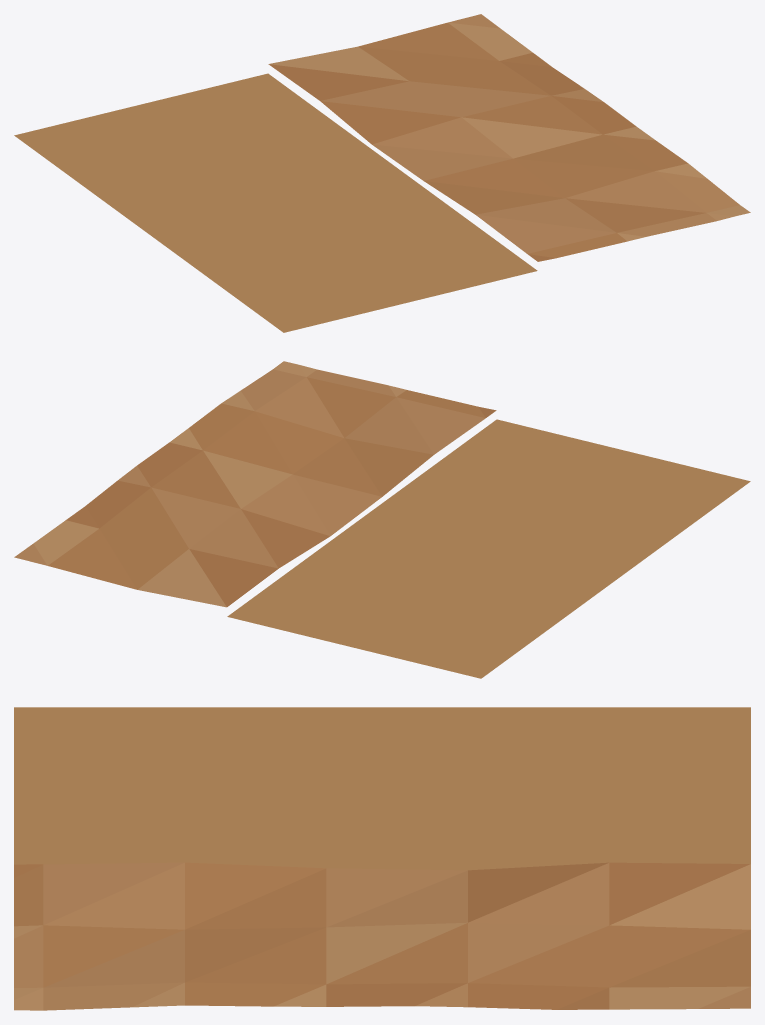
3 views of the same model, one above another, from view 1: azimuth 30°, elevation 25°; view 2: azimuth 150°, elevation 25°; view 3: azimuth 270°, elevation 25° (orthographic). The views are drawn at different scales.
Visible parts, largest first — view 1: baked; view 2: baked; view 3: baked.
Part boxes in pixels (x1,y1,x2,y2): baked: [14, 14, 750, 332]; baked: [14, 361, 750, 678]; baked: [14, 707, 750, 1010].
Size of the model in its own units: 62.5 by 1.33 by 62.5.
